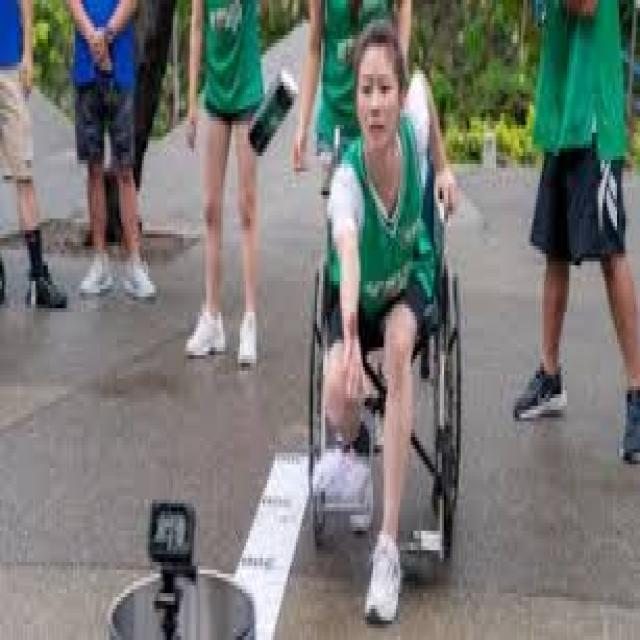wheelchairs: (298, 125, 490, 636)
